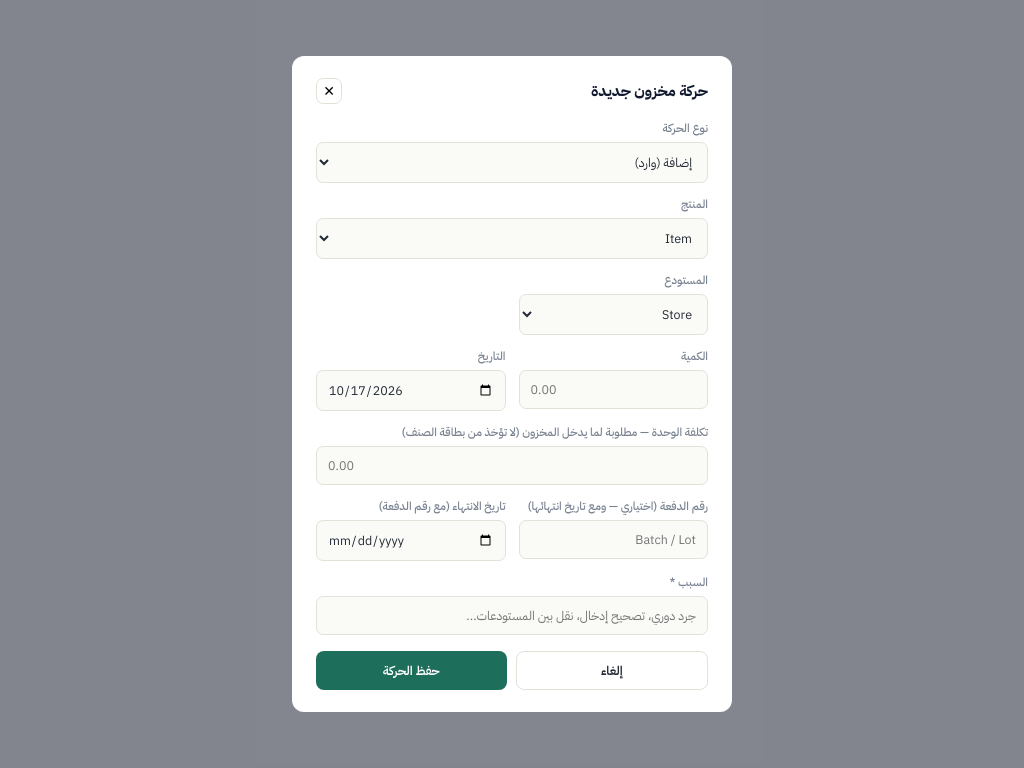
Stock movement save follows the action the movement needs › disables a negative adjustment without review but not a positive one
Select "تسوية جرد" in the dropdown below "نوع الحركة": (512, 162) top-left (316, 142), bottom-right (708, 183)
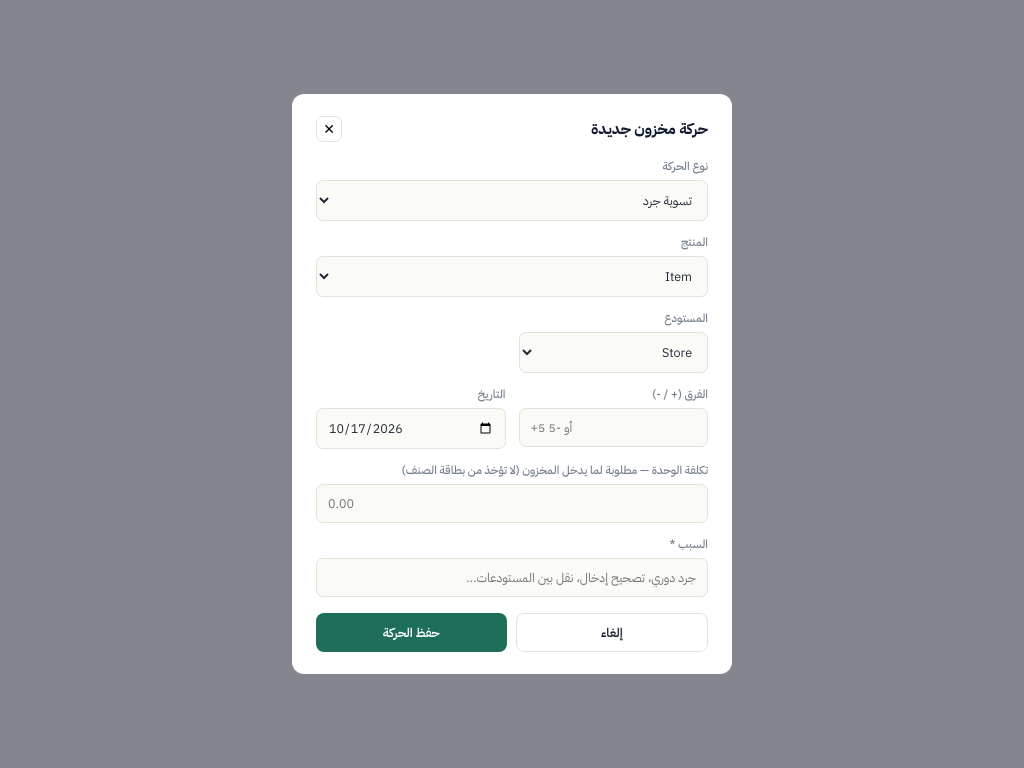
In the field with placeholder "+5 أو -5": (613, 428) top-left (518, 408), bottom-right (708, 447), type "-2"
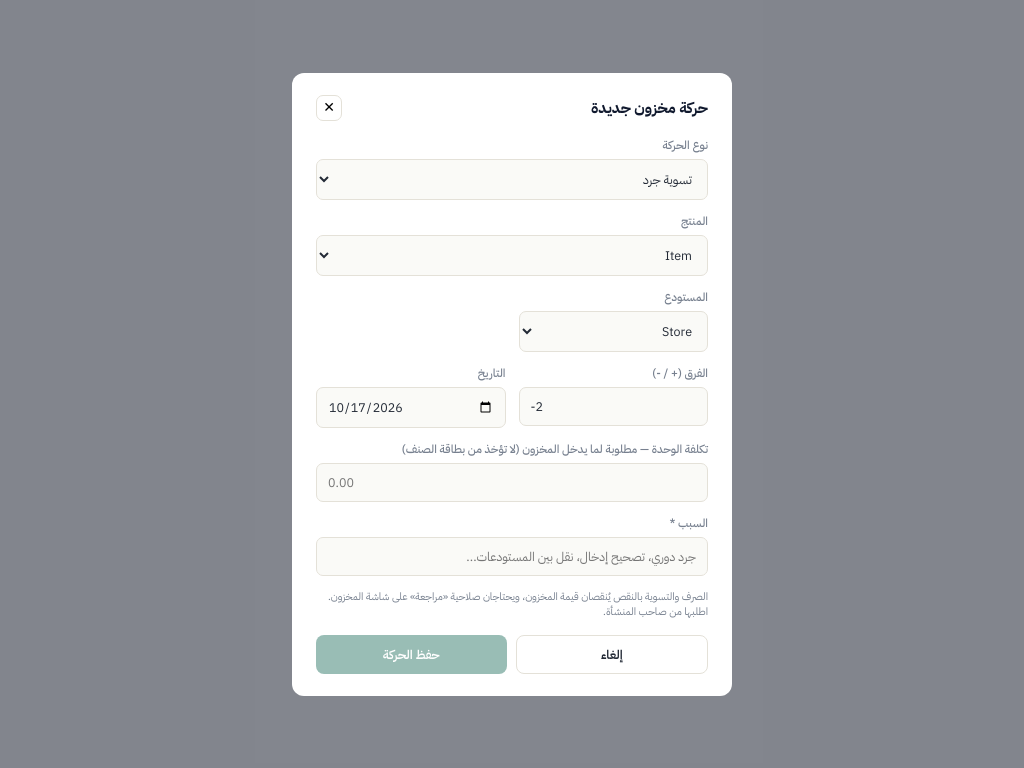
Check: the button "حفظ الحركة" is disabled, box top-left (316, 634), bottom-right (506, 674)
Check: the text "الصرف والتسوية بالنقص يُنقصان قيمة المخزون، ويحتاجان صلاحية «مراجعة» على شاشة المخزون. اطلبها من صاحب المنشأة." is shown, box top-left (328, 588), bottom-right (708, 618)
Replace the text in the field with placeholder "+5 أو -5" with "2": (613, 406) top-left (518, 386), bottom-right (708, 426)
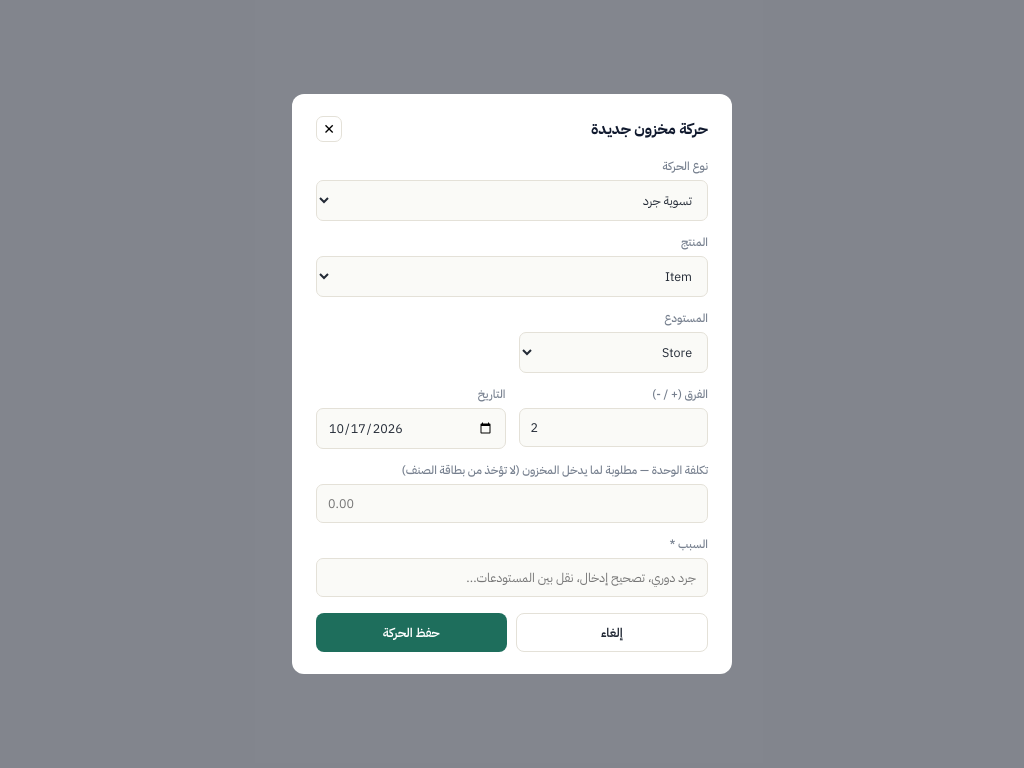
Check: the button "حفظ الحركة" is enabled, box top-left (316, 613), bottom-right (506, 652)
Check: the text "الصرف والتسوية بالنقص يُنقصان قيمة المخزون، ويحتاجان صلاحية «مراجعة» على شاشة المخزون. اطلبها من صاحب المنشأة." is gone
